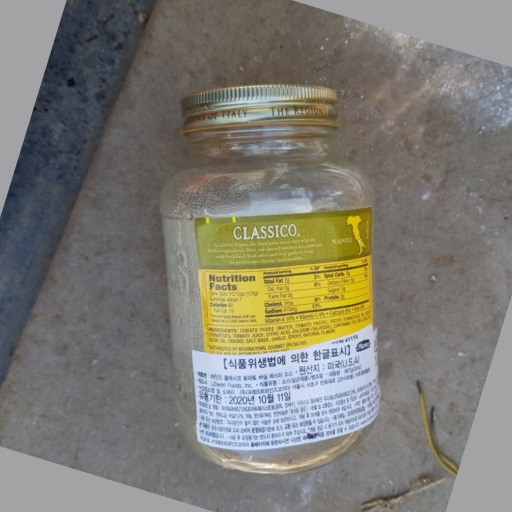Glass_5: (160, 82, 386, 477)
